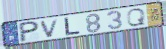3: (106, 10, 124, 31)
8: (85, 12, 102, 34)
L: (64, 16, 82, 36)
P: (19, 20, 41, 44)
Q: (126, 7, 147, 27)
V: (39, 18, 61, 39)
